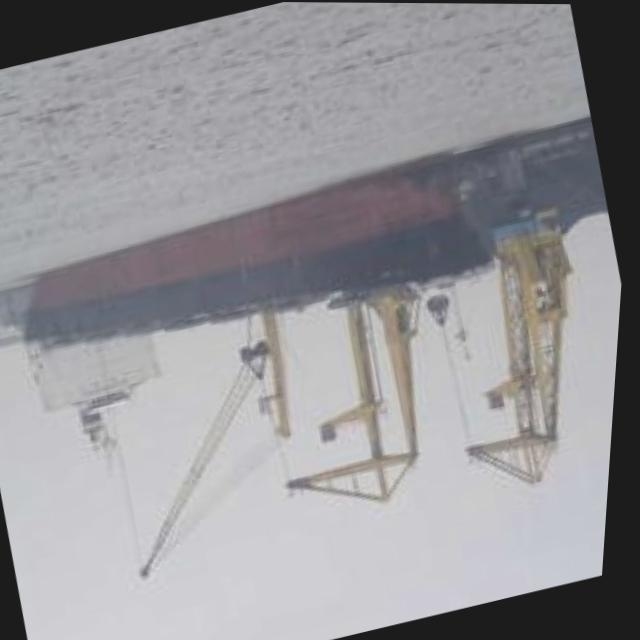ship2: (27, 161, 496, 476)
